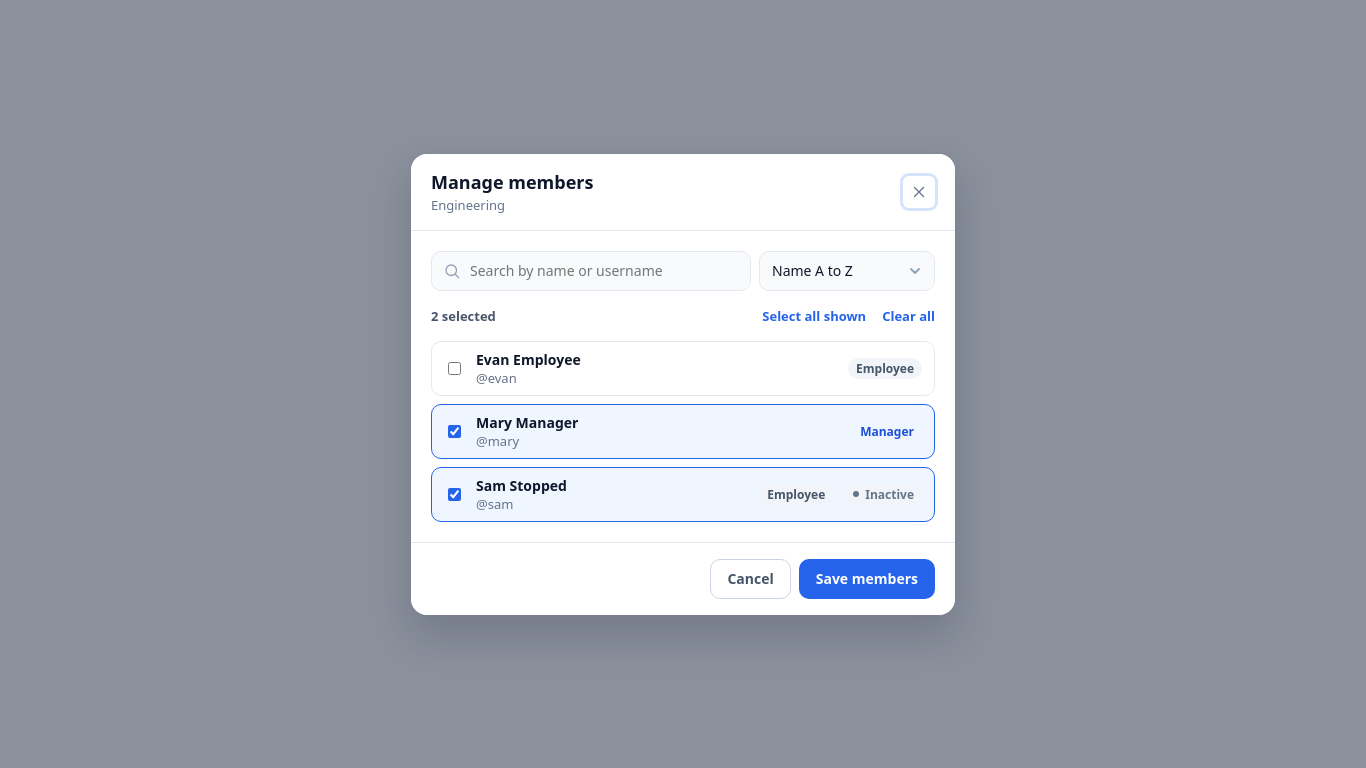
DepartmentMembersDialogComponent › selects and clears everyone shown, leaving hidden people alone
The width and height of the screenshot is (1366, 768).
Type "evan" into the search field with id "dm-search" at (591, 270), box [431,250,751,290]
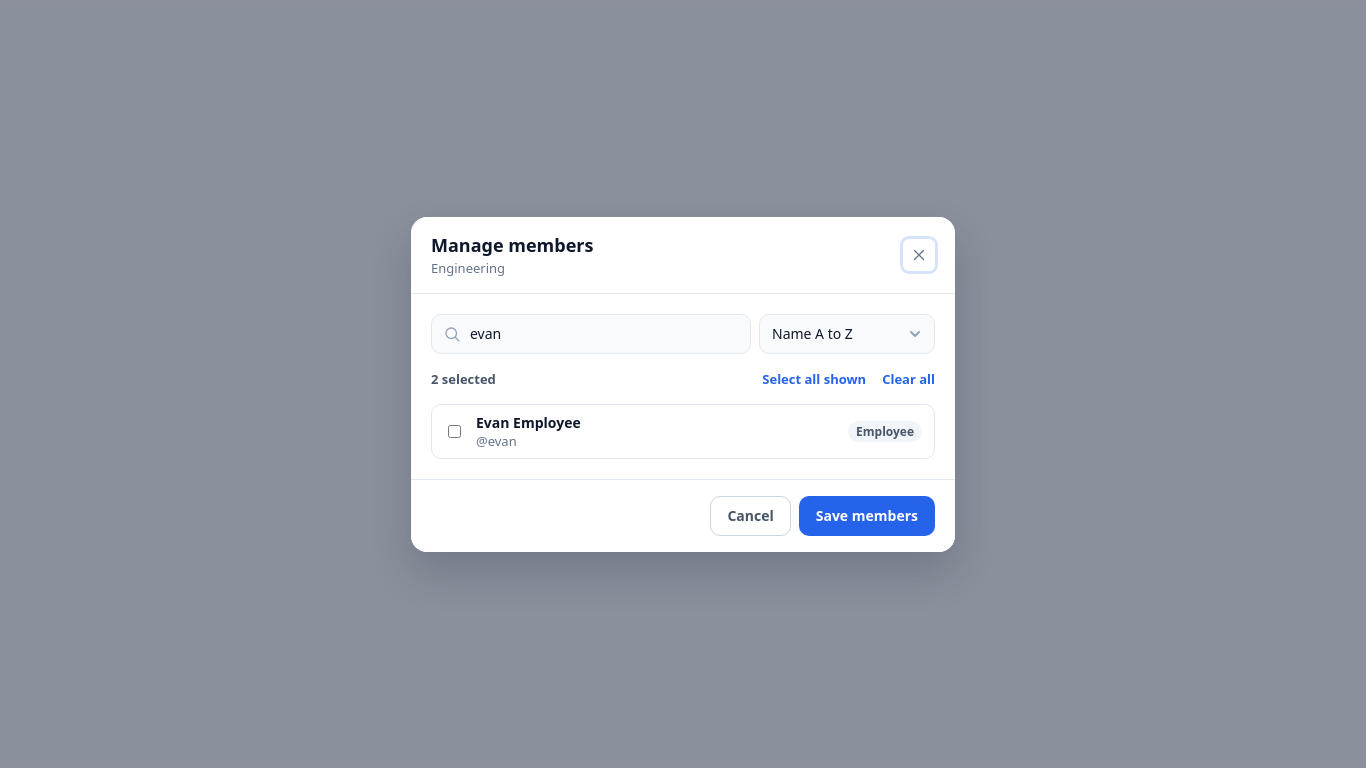
Click the button "Select all shown" at (814, 378), box [762,370,866,388]
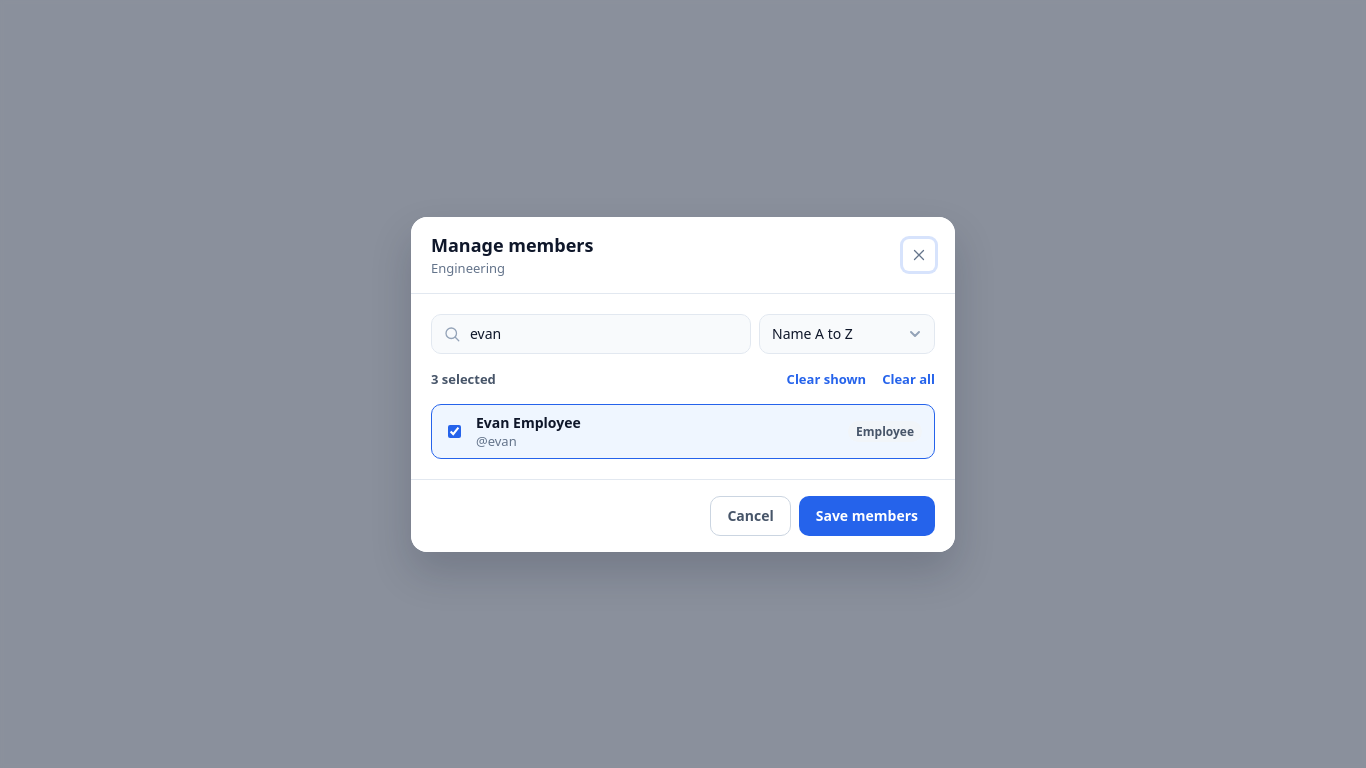
Check: the text "3 selected" is shown, box [431,370,496,388]
Check: the button "Clear shown" is shown
Click the button "Clear shown" at (826, 378), box [787,370,866,388]
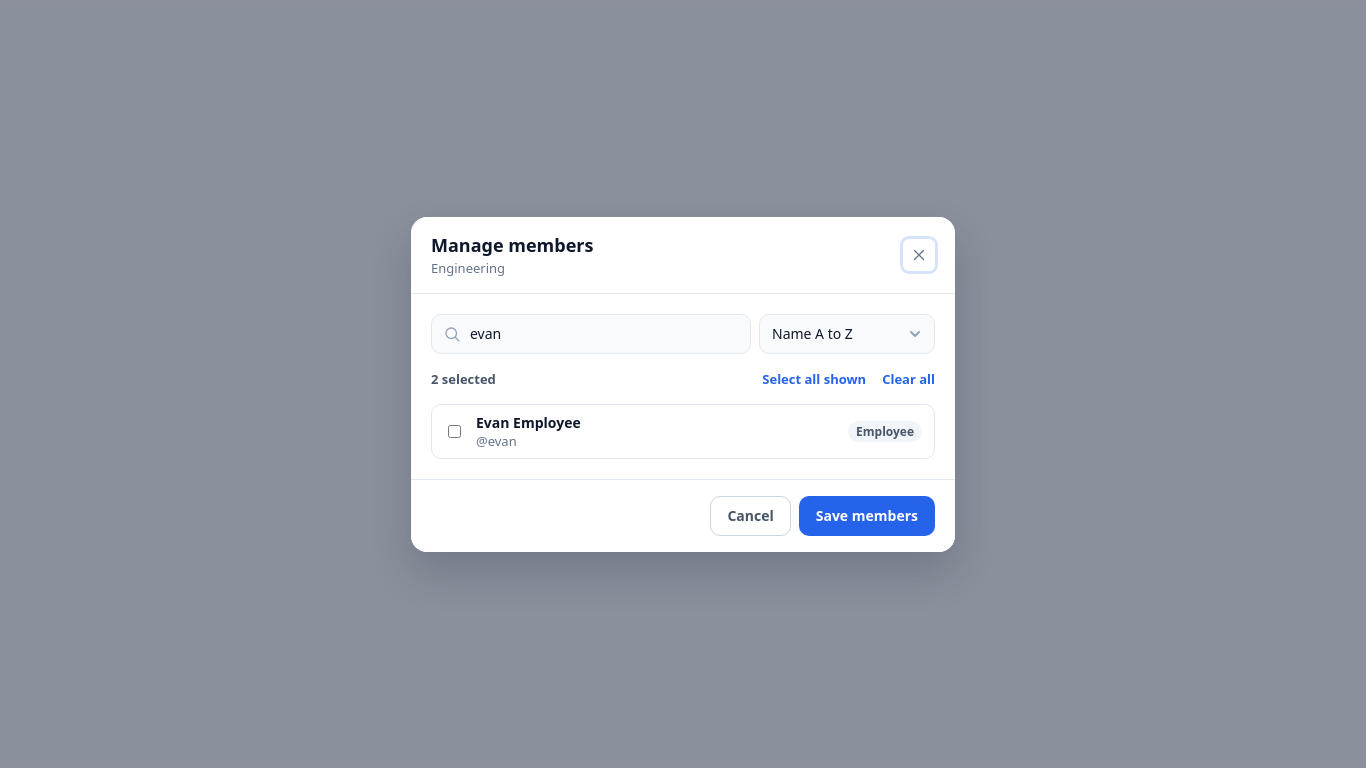
Check: the text "2 selected" is shown, box [431,370,496,388]
